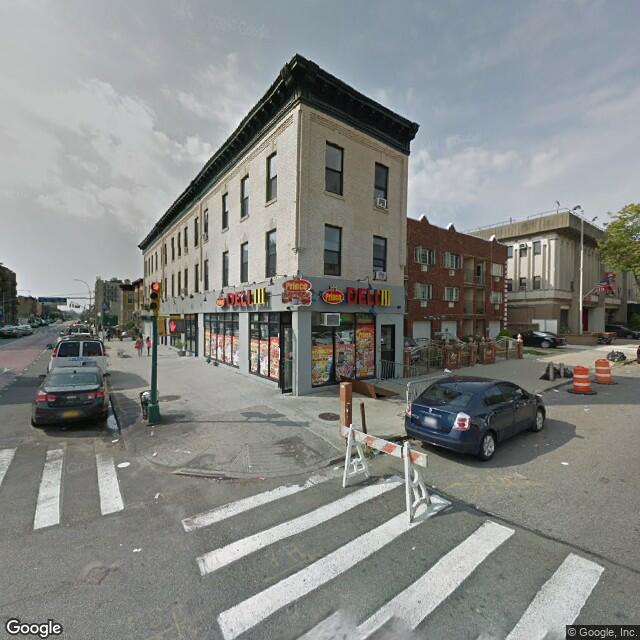litter: (153, 488, 163, 499), (375, 448, 388, 456), (114, 462, 134, 466), (145, 423, 157, 428), (152, 450, 159, 456), (147, 430, 154, 435), (114, 437, 120, 442), (442, 368, 449, 371), (136, 547, 141, 551), (329, 466, 339, 468), (555, 390, 560, 393)
